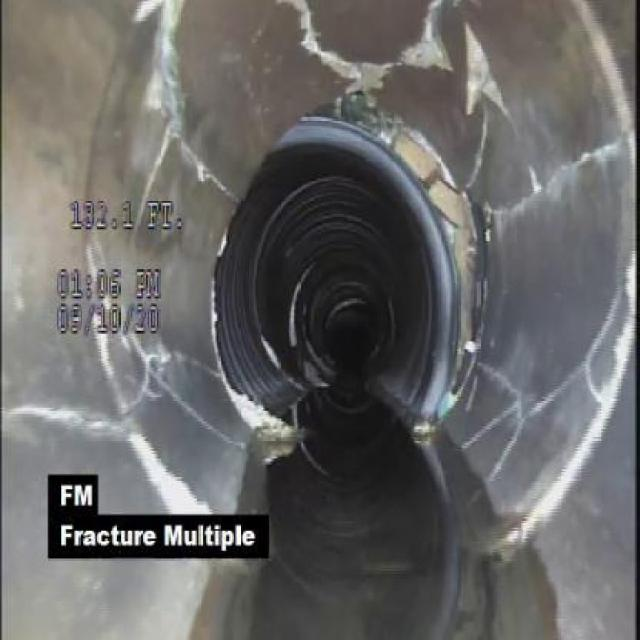Crack: (132, 6, 200, 194), (531, 298, 620, 404), (4, 403, 128, 435), (549, 137, 628, 185)
Hole: (304, 39, 408, 130)
Joint offset: (425, 157, 489, 354), (525, 405, 612, 543)
